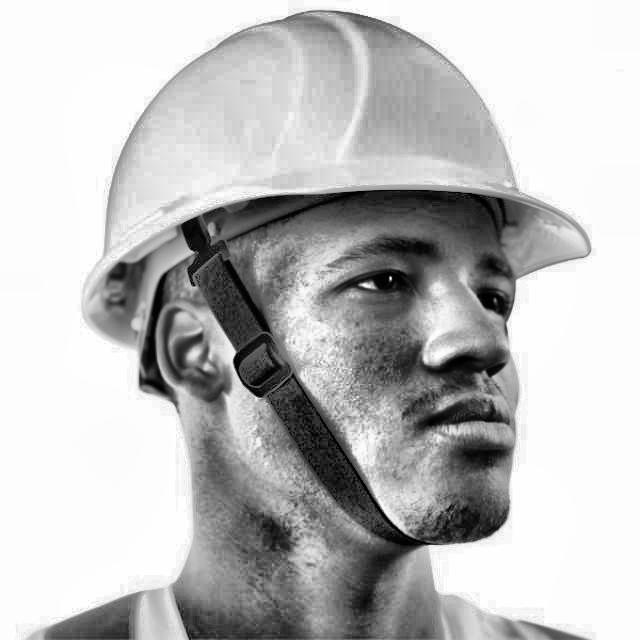Helmet: (67, 0, 606, 571)
